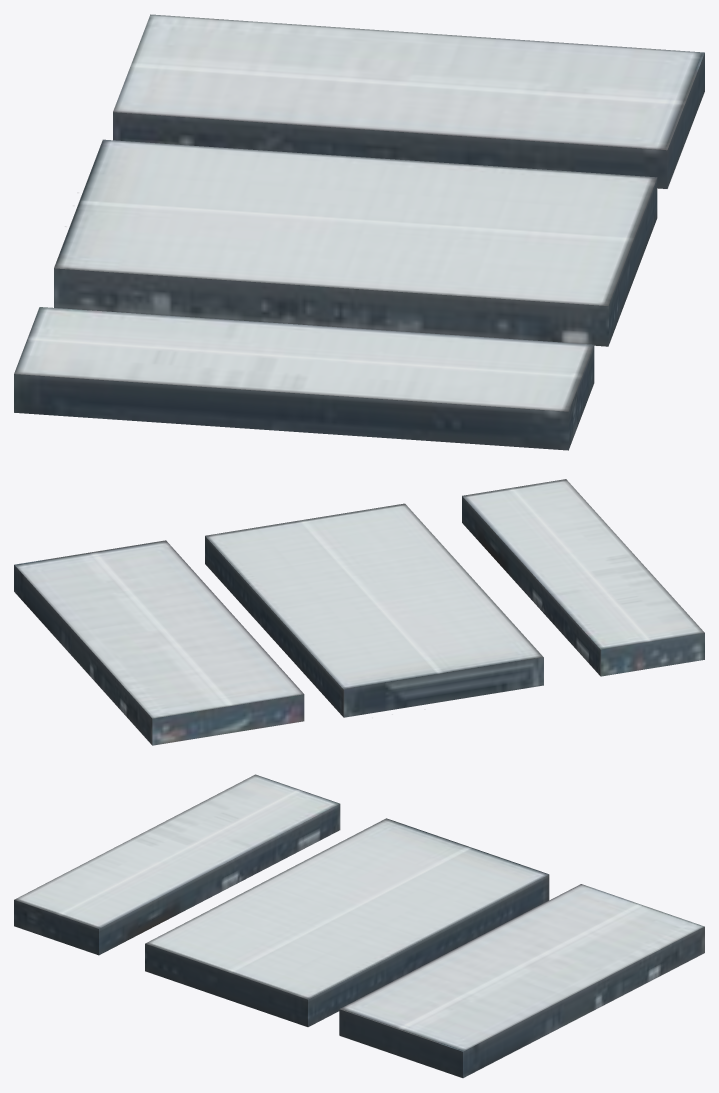
3 views of the same model, one above another, from view 1: azimuth 30°, elevation 25°; view 2: azimuth 150°, elevation 25°; view 3: azimuth 270°, elevation 25° (orthographic). The views are drawn at different scales.
Parts seen in each view (by area): view 1: Buildings_建物パビリオン; view 2: Buildings_建物パビリオン; view 3: Buildings_建物パビリオン.
Boxes of the visible parts, x1,y1,x2,y2 form: Buildings_建物パビリオン: (14, 14, 704, 450); Buildings_建物パビリオン: (14, 479, 704, 745); Buildings_建物パビリオン: (14, 774, 704, 1078).
Size of the model in its own units: 95.89 by 4.67 by 99.92.
Materials: 4 (3 with a texture image).
